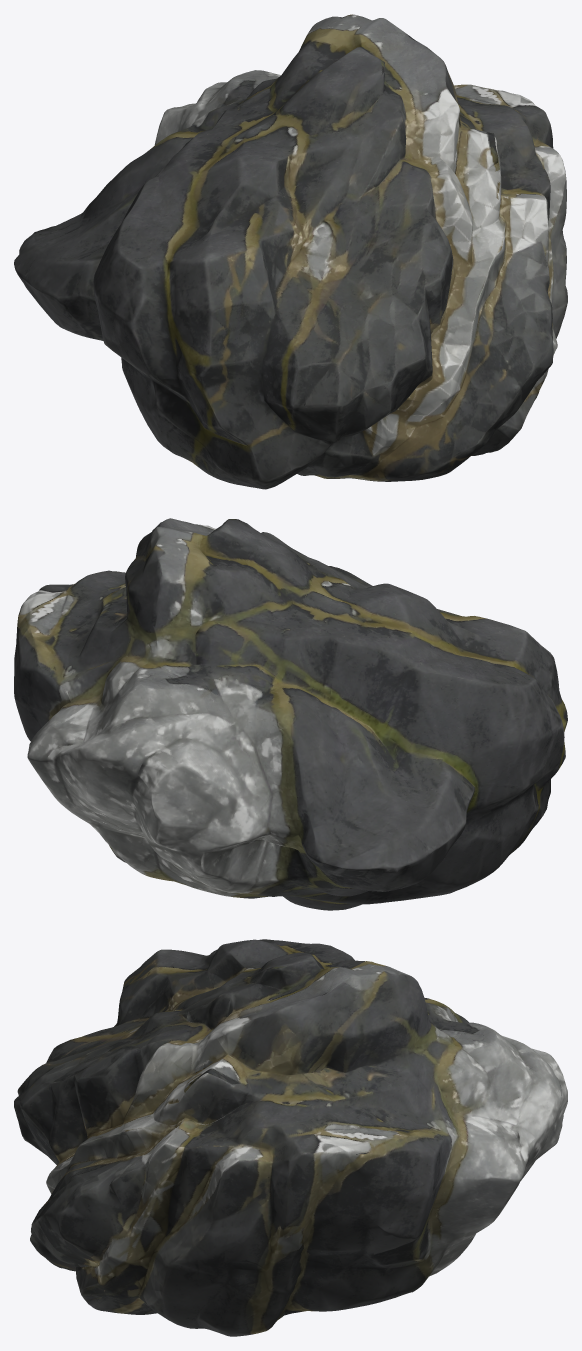
File: 10_metal_rich_asteroid.fbx
3 views of the same model, one above another, from view 1: azimuth 30°, elevation 25°; view 2: azimuth 150°, elevation 25°; view 3: azimuth 270°, elevation 25° (orthographic).
Visible parts, largest first — view 1: 10_metal_rich_asteroid; view 2: 10_metal_rich_asteroid; view 3: 10_metal_rich_asteroid.
Boxes of the visible parts, box(x1,y1,x2,y2) form: 10_metal_rich_asteroid: box(14, 14, 567, 489); 10_metal_rich_asteroid: box(14, 518, 567, 910); 10_metal_rich_asteroid: box(14, 939, 567, 1336).
Bounding box in the file's own units: 19.82 × 14.51 × 20.
Materials: 1 (1 with a texture image).
